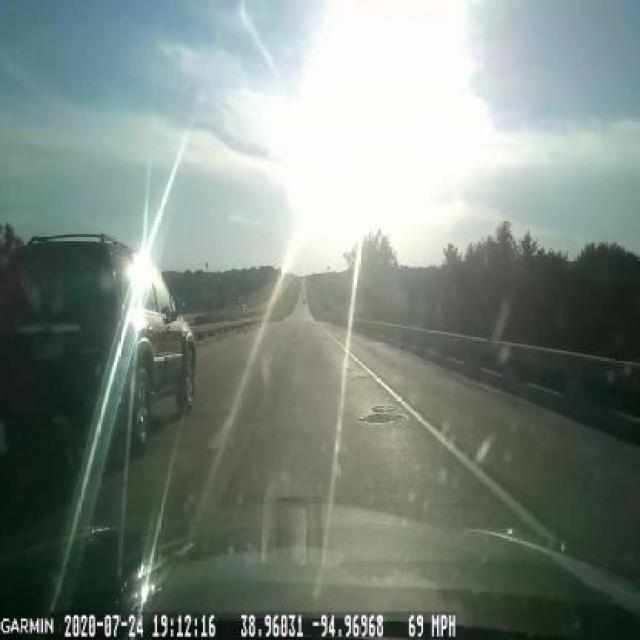Pothole: (354, 396, 408, 435)
